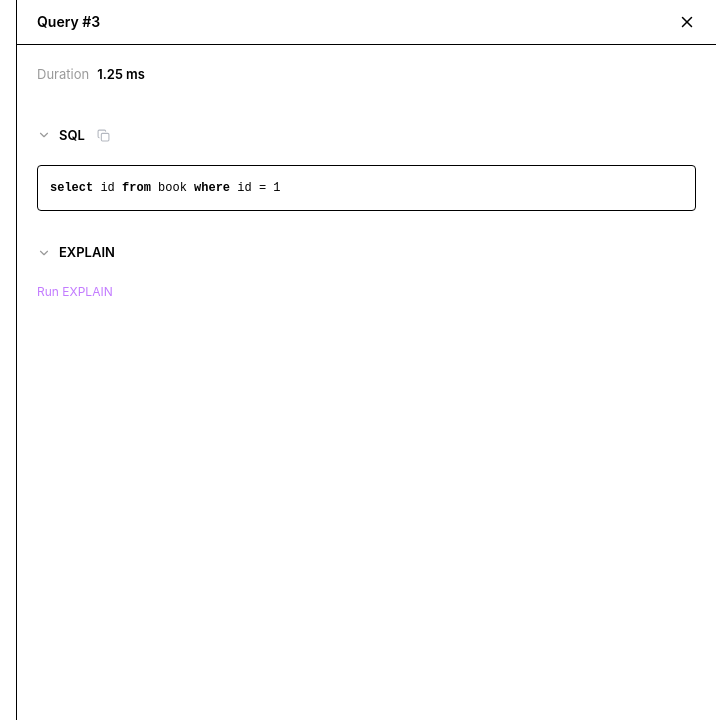
QueryDetail EXPLAIN › shows the plan without a command when the server names none
What coordinates should you click on to do the following:
click the button "Run EXPLAIN"
I would click on:
 (75, 292)
Its box is [37,282,113,300].
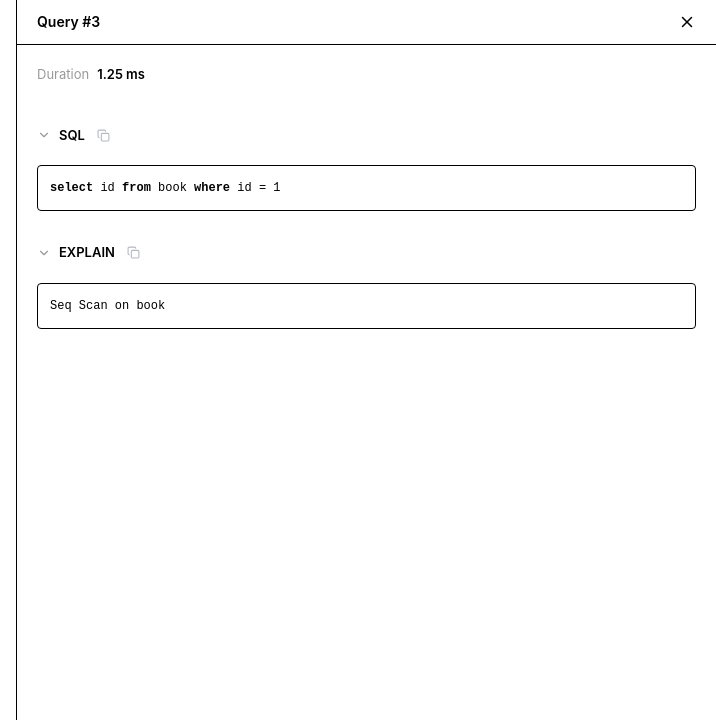
Result: the text "Seq Scan on book" is shown at [50,298,165,312]
